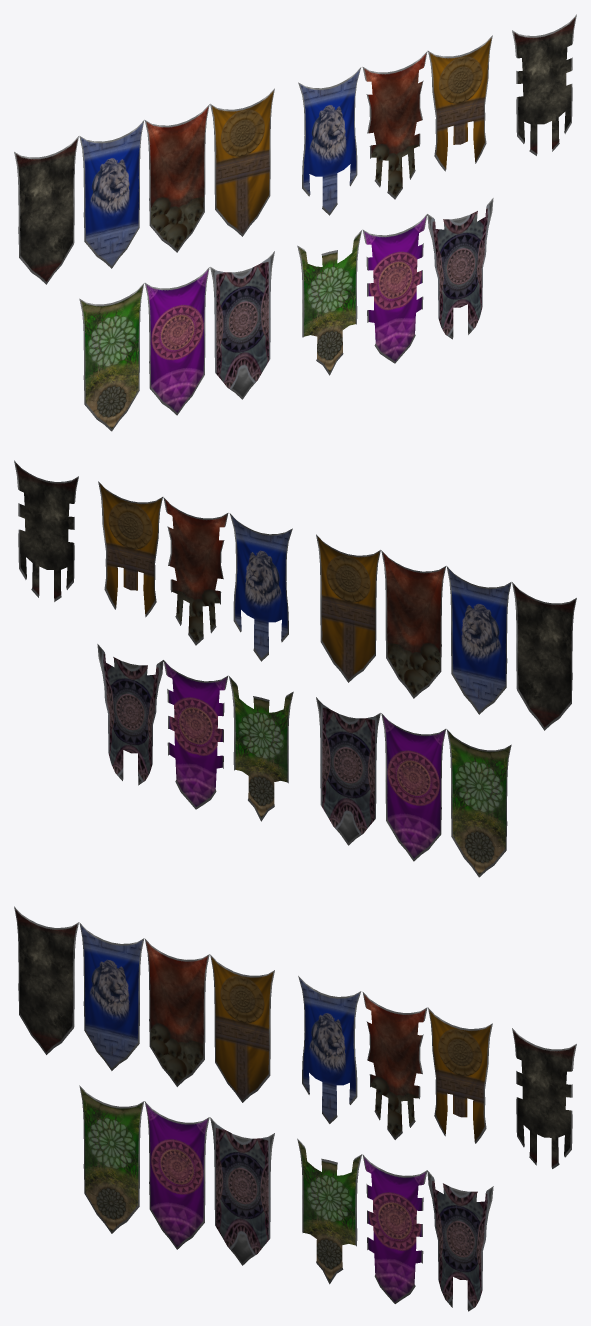
The model's file is New Banners Adv 1.1.fbx.
3 renders of one model, top to bottom at view 1: azimuth 30°, elevation 25°; view 2: azimuth 150°, elevation 25°; view 3: azimuth 330°, elevation 25°, orthographic.
Parts seen in each view (by area): view 1: Banner_1G, Banner_1F, Banner_1C, Banner_1B, Banner_1E, Banner_1D, Banner_1A, Banner_2E, Banner_2A, Banner_2G, Banner_2B, Banner_2F (+2 smaller); view 2: Banner_1G, Banner_1F, Banner_1C, Banner_1B, Banner_1E, Banner_1D, Banner_1A, Banner_2E, Banner_2A, Banner_2G, Banner_2B, Banner_2F (+2 smaller); view 3: Banner_1C, Banner_1B, Banner_1E, Banner_1F, Banner_1G, Banner_1D, Banner_1A, Banner_2E, Banner_2G, Banner_2A, Banner_2B, Banner_2F (+2 smaller).
Part boxes in pixels (x1,y1,x2,y2): Banner_1G: [14, 136, 78, 284]; Banner_1F: [210, 251, 274, 399]; Banner_1C: [210, 88, 274, 236]; Banner_1B: [145, 104, 209, 252]; Banner_1E: [145, 267, 209, 415]; Banner_1D: [79, 283, 144, 431]; Banner_1A: [79, 120, 144, 268]; Banner_2E: [362, 214, 427, 363]; Banner_2A: [298, 67, 361, 215]; Banner_2G: [512, 14, 576, 155]; Banner_2B: [362, 51, 427, 199]; Banner_2F: [427, 198, 493, 339]; Banner_1G: [512, 582, 576, 730]; Banner_1F: [316, 697, 380, 845]; Banner_1C: [316, 534, 380, 682]; Banner_1B: [381, 550, 445, 698]; Banner_1E: [381, 713, 445, 861]; Banner_1D: [446, 729, 511, 877]; Banner_1A: [446, 566, 511, 714]; Banner_2E: [163, 660, 228, 809]; Banner_2A: [229, 513, 292, 661]; Banner_2G: [14, 460, 78, 601]; Banner_2B: [163, 497, 228, 645]; Banner_2F: [97, 644, 163, 785]; Banner_1C: [210, 954, 274, 1102]; Banner_1B: [145, 939, 209, 1086]; Banner_1E: [144, 1101, 209, 1249]; Banner_1F: [210, 1117, 274, 1265]; Banner_1G: [14, 906, 78, 1054]; Banner_1D: [79, 1085, 144, 1233]; Banner_1A: [79, 922, 144, 1070]; Banner_2E: [362, 1154, 427, 1303]; Banner_2G: [512, 1028, 576, 1168]; Banner_2A: [298, 976, 361, 1123]; Banner_2B: [362, 992, 427, 1139]; Banner_2F: [427, 1170, 493, 1311].
Size of the model in its own units: 1809 by 937 by 1.23.
